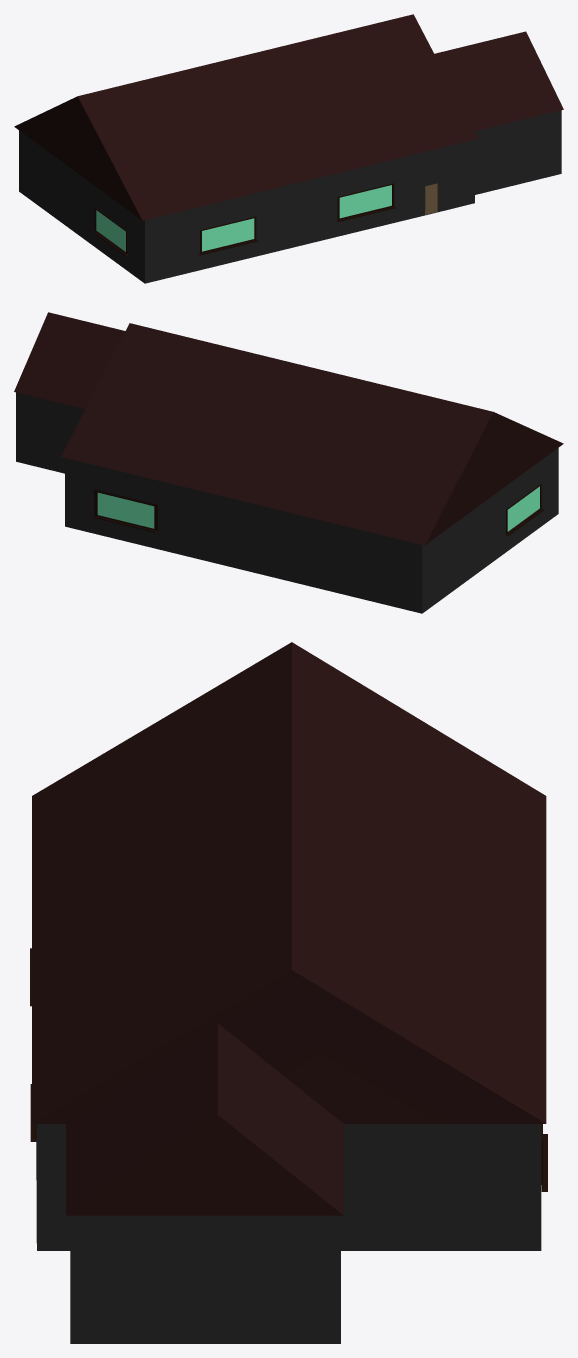
The model's file is NewHouse2.FBX.
3 views of the same model, one above another, from view 1: azimuth 30°, elevation 25°; view 2: azimuth 150°, elevation 25°; view 3: azimuth 270°, elevation 25° (orthographic). The views are drawn at different scales.
Parts seen in each view (by area): view 1: NewHouse2; view 2: NewHouse2; view 3: NewHouse2.
Boxes of the visible parts, x1,y1,x2,y2 form: NewHouse2: (14, 14, 563, 283); NewHouse2: (14, 312, 563, 613); NewHouse2: (30, 642, 547, 1343).
Size of the model in its own units: 1330 by 419 by 693.
